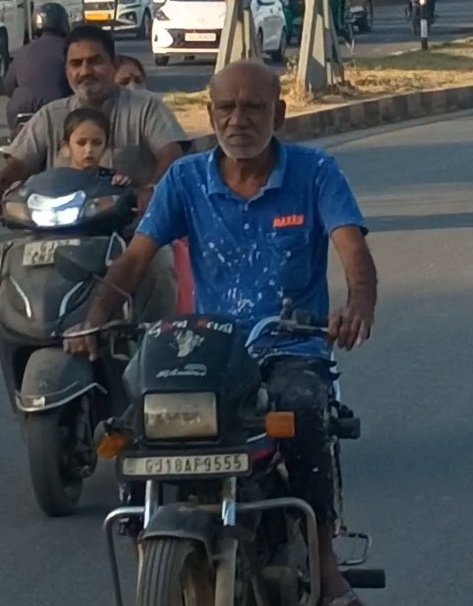BikeWithRider: (45, 50, 396, 606), (0, 19, 211, 524)
NoHelmet: (198, 54, 294, 165), (48, 22, 129, 103), (59, 106, 116, 174), (103, 50, 151, 106)
